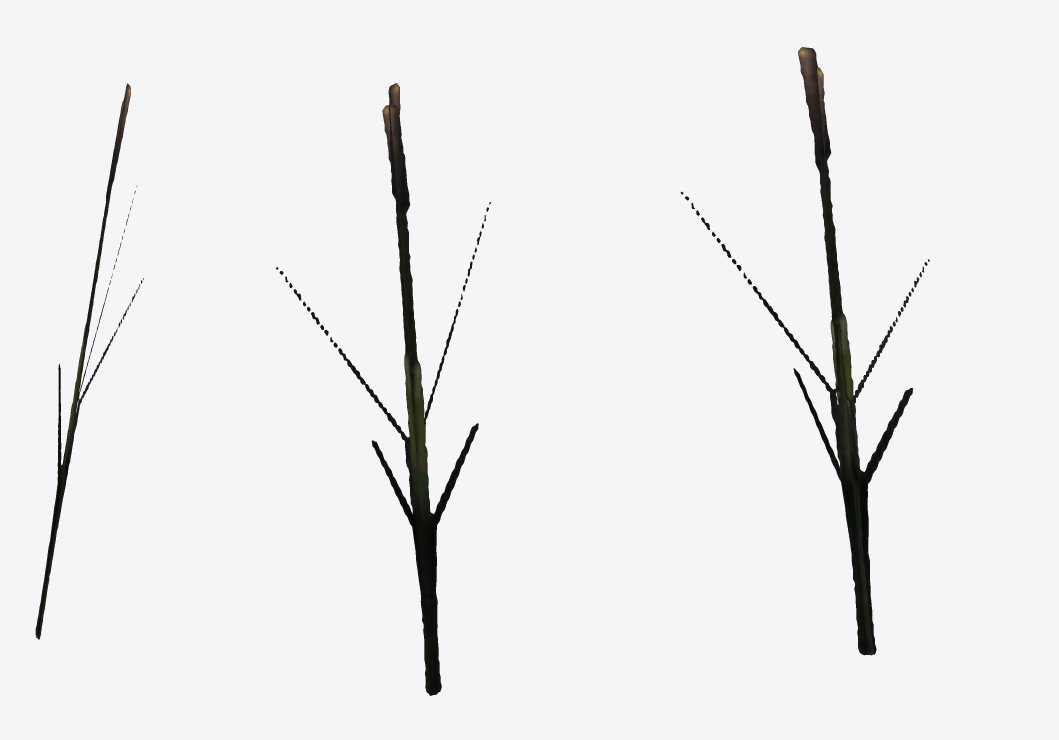
Rendered from swmp_shor_cattail_lg_l2.fbx.
3 renders of one model, left to right at view 1: azimuth 30°, elevation 25°; view 2: azimuth 150°, elevation 25°; view 3: azimuth 270°, elevation 25°, orthographic. The views are drawn at different scales.
Visible parts, largest first — view 1: mesh_node; view 2: mesh_node; view 3: mesh_node.
Part boxes in pixels (bbox=[...]): mesh_node: bbox=[35, 83, 143, 639]; mesh_node: bbox=[276, 83, 490, 695]; mesh_node: bbox=[680, 47, 929, 655].
Bounding box in the file's own units: 1.14 × 2.91 × 1.68.
